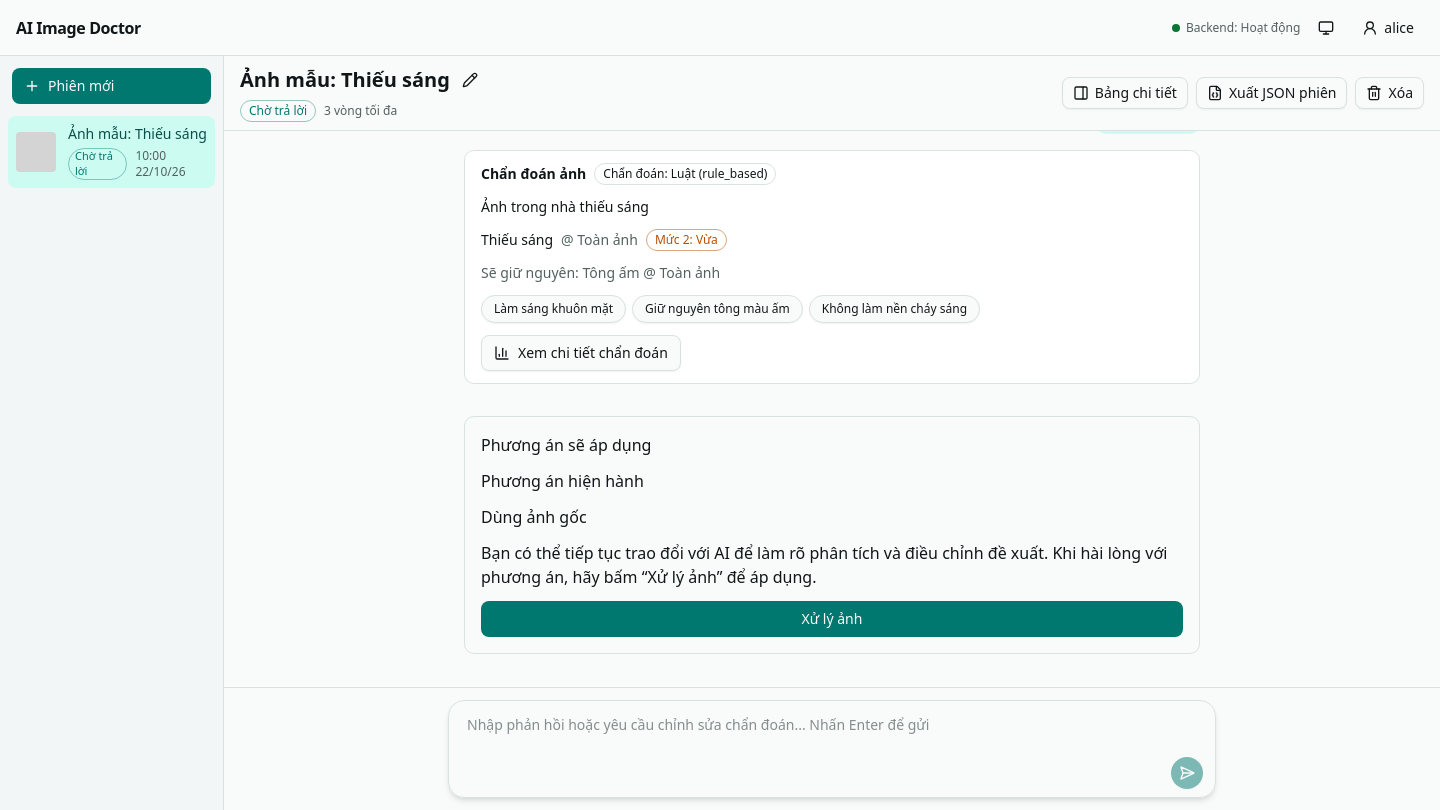
Test case: conversation and explicit execution › keeps an unsent request from being omitted by execution
(page scrolled)
Type "sáng hơn" into the text box with placeholder "Nhập phản hồi hoặc yêu cầu chỉnh sửa chẩn đoán".
click(832, 731); type("sáng hơn")  # box [457,709,1207,753]
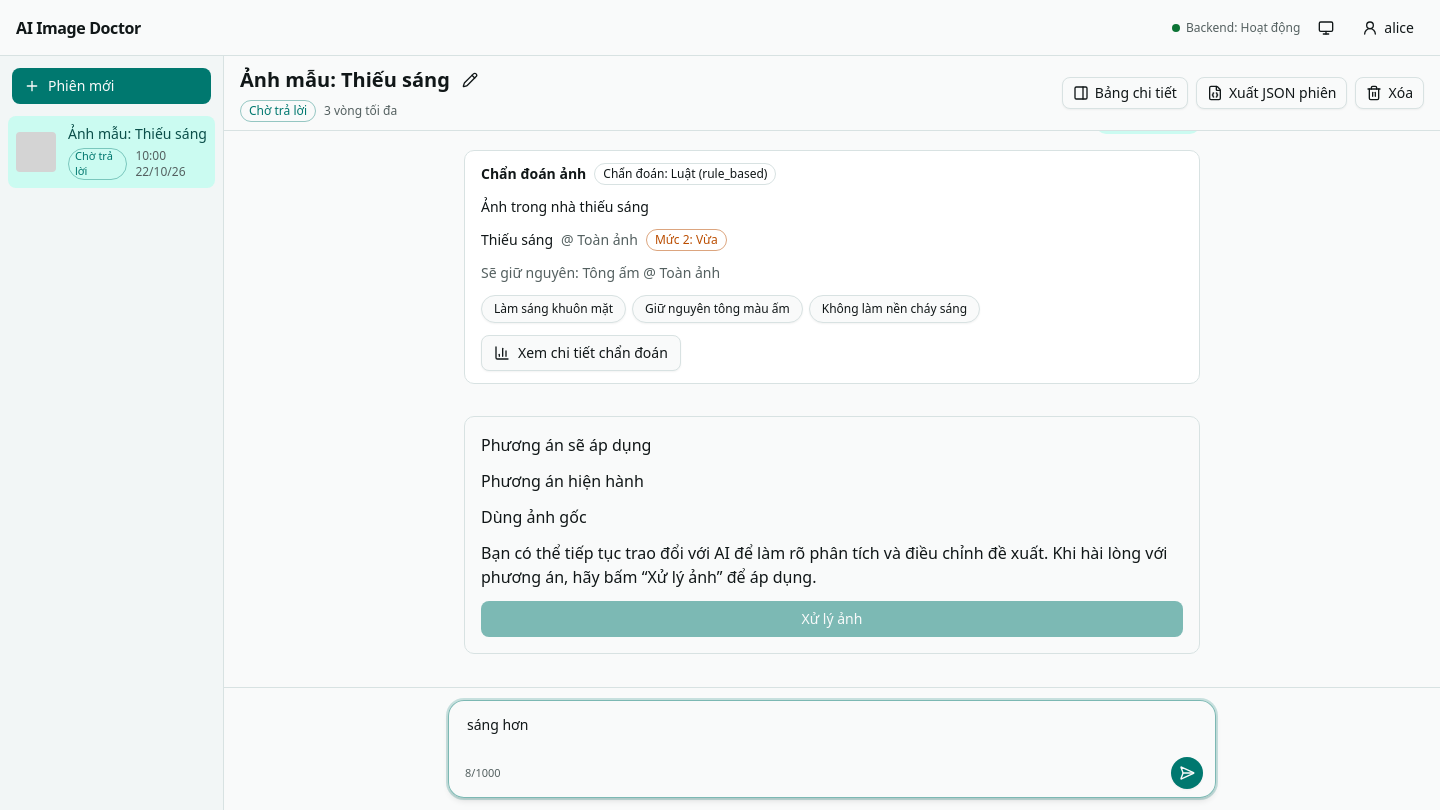
Expected: the button "Xử lý ảnh" is disabled, [481,601,1183,637]
